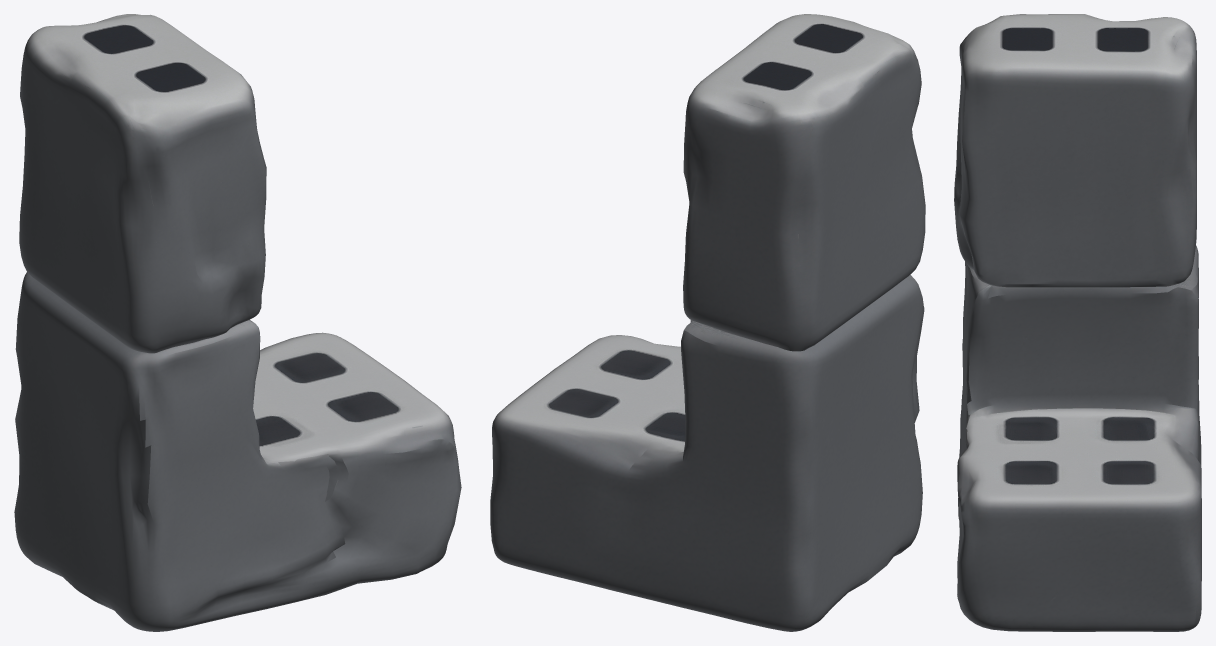
The model's file is brick_L_cinder.glb.
3 views of the same model, side by side, from view 1: azimuth 30°, elevation 25°; view 2: azimuth 150°, elevation 25°; view 3: azimuth 270°, elevation 25° (orthographic). The views are drawn at different scales.
Visible parts, largest first — view 1: Mesh_0; view 2: Mesh_0; view 3: Mesh_0.
Boxes of the visible parts, x1=… form: Mesh_0: x1=14, y1=14, x2=461, y2=631; Mesh_0: x1=490, y1=14, x2=925, y2=631; Mesh_0: x1=954, y1=14, x2=1201, y2=631.
Bounding box in the file's own units: 1.23 × 1.9 × 0.8782.
Materials: 1 (1 with a texture image).
